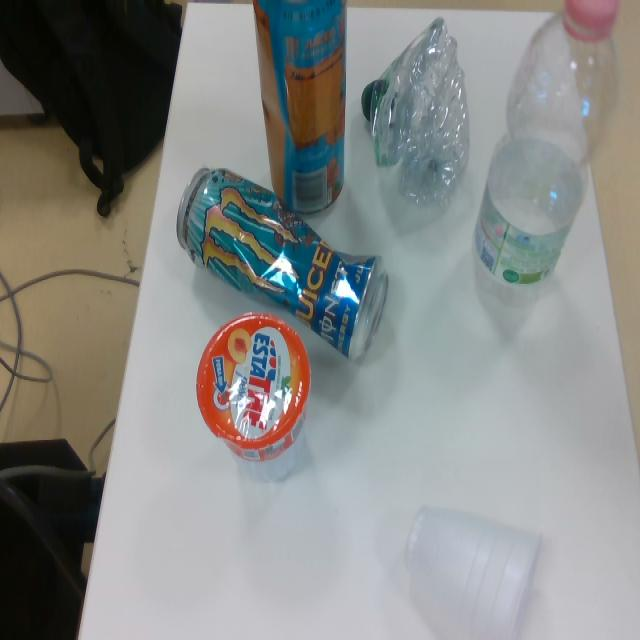aluminum: (175, 166, 389, 364), (251, 0, 344, 218)
plastic: (472, 0, 623, 301), (359, 11, 475, 207), (401, 497, 546, 640), (198, 309, 319, 476)
